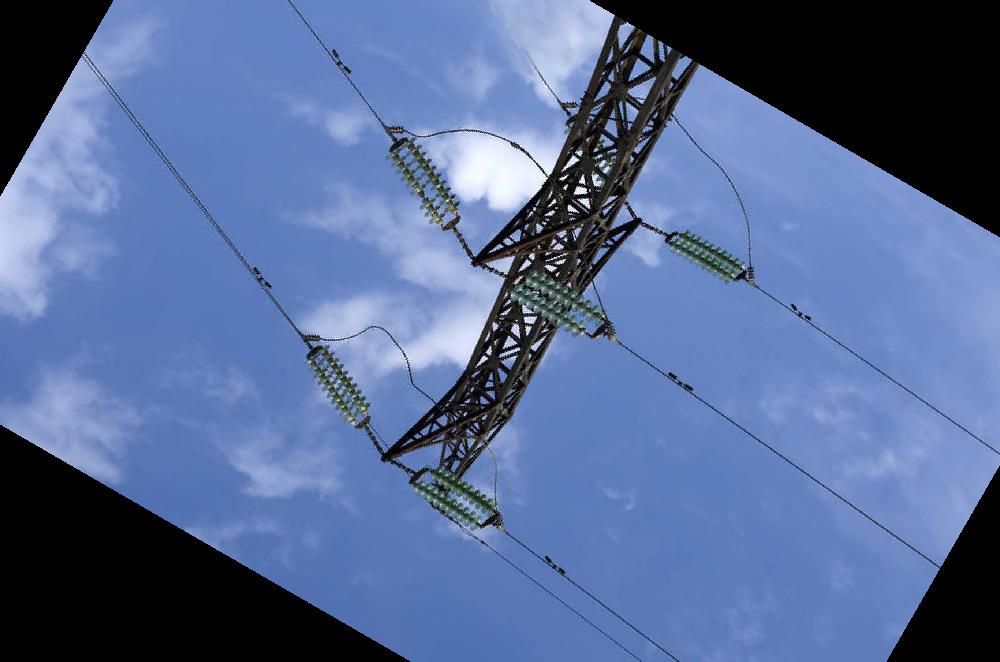insulator: (384, 134, 465, 226), (306, 340, 377, 427), (523, 265, 607, 329), (663, 228, 752, 287), (508, 281, 593, 342), (428, 465, 500, 520), (413, 478, 484, 533)
insulator_stringdrop: (409, 180, 439, 212)
